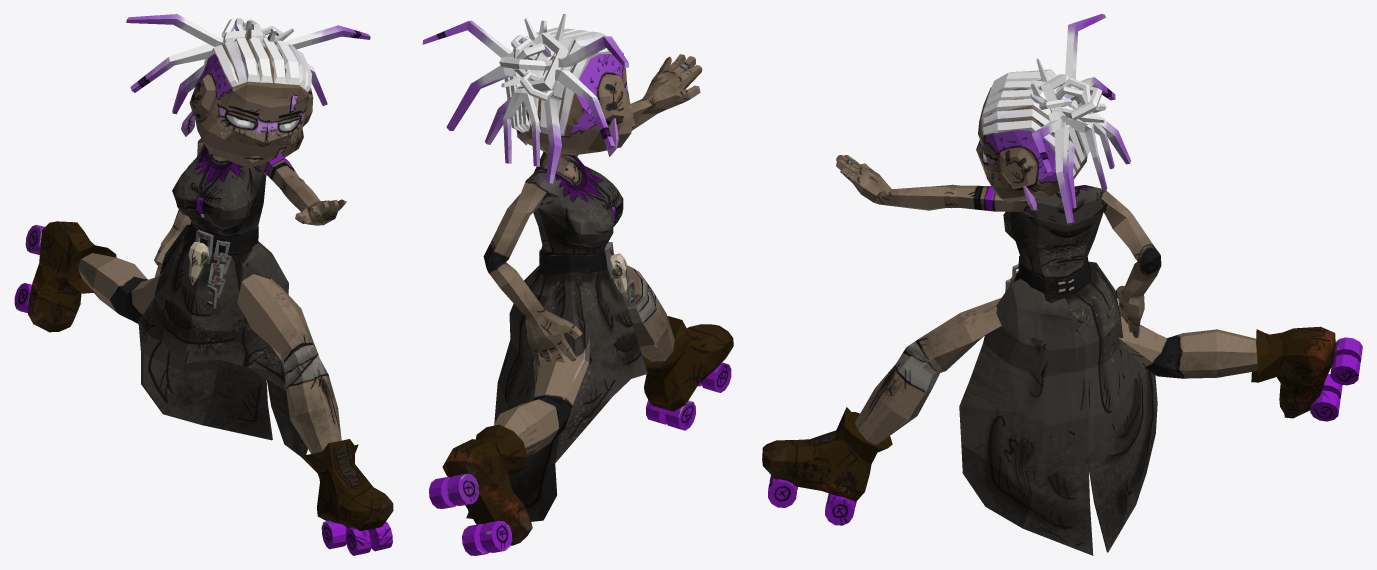
File: bruja_000029.obj
3 views of the same model, side by side, from view 1: azimuth 30°, elevation 25°; view 2: azimuth 150°, elevation 25°; view 3: azimuth 270°, elevation 25° (orthographic). The views are drawn at different scales.
Parts seen in each view (by area): view 1: Bruja_Plane.001; view 2: Bruja_Plane.001; view 3: Bruja_Plane.001.
Part boxes in pixels (x1,y1,x2,y2): Bruja_Plane.001: (14,14,393,555); Bruja_Plane.001: (422,14,733,555); Bruja_Plane.001: (762,14,1362,555).
Size of the model in its own units: 7.23 by 14.62 by 16.86.
